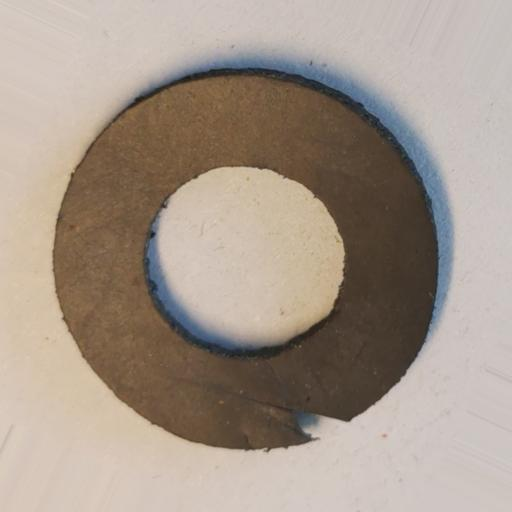defect: (251, 395, 351, 443)
